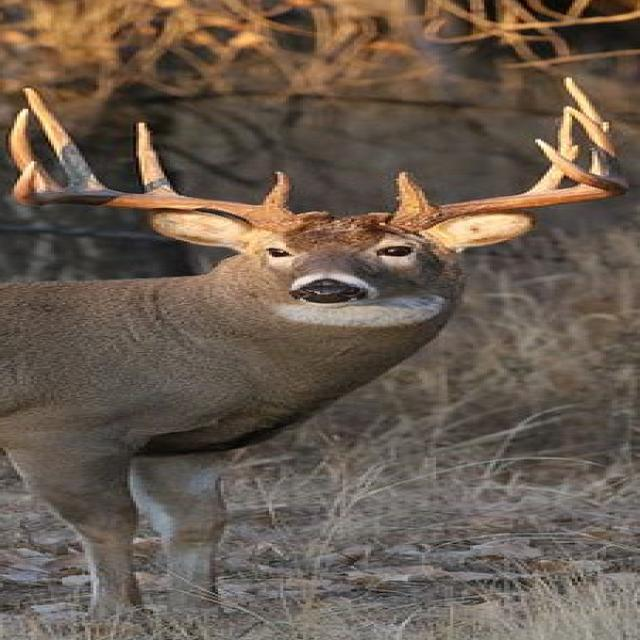L-F: (388, 137, 630, 233)
L-G1: (393, 170, 435, 215)
R-F: (11, 160, 296, 230)
R-G1: (259, 170, 292, 213)
R-G2: (134, 121, 181, 196)
R-G3: (21, 87, 116, 191)
